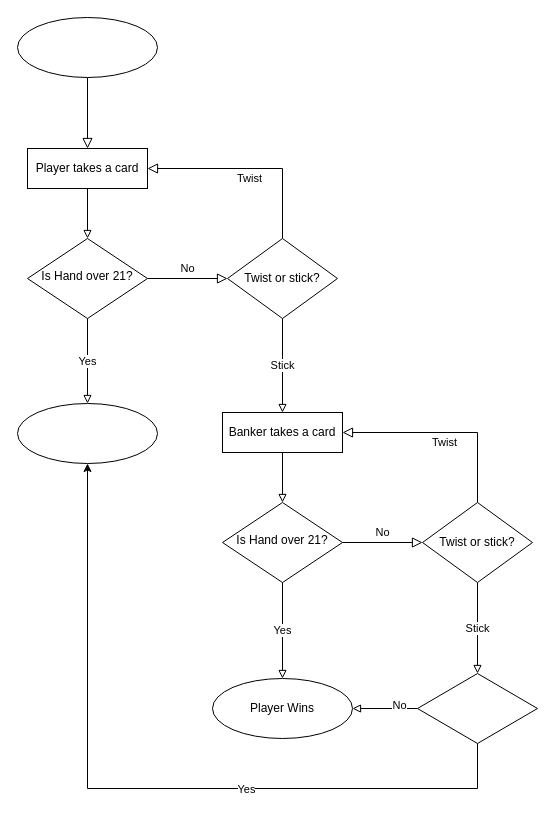
Image size: 555x814. Some labels were removed from this diagram. The shapes that lost their labels are listed below. From the top down, each one's centre as x and y in pixels, then its label:
At [87,47]: "Player clicks on Button and Game begins".
At [87,433]: "Banker Wins".
At [477,708]: "Banker's Hand => Player's Hand?".
